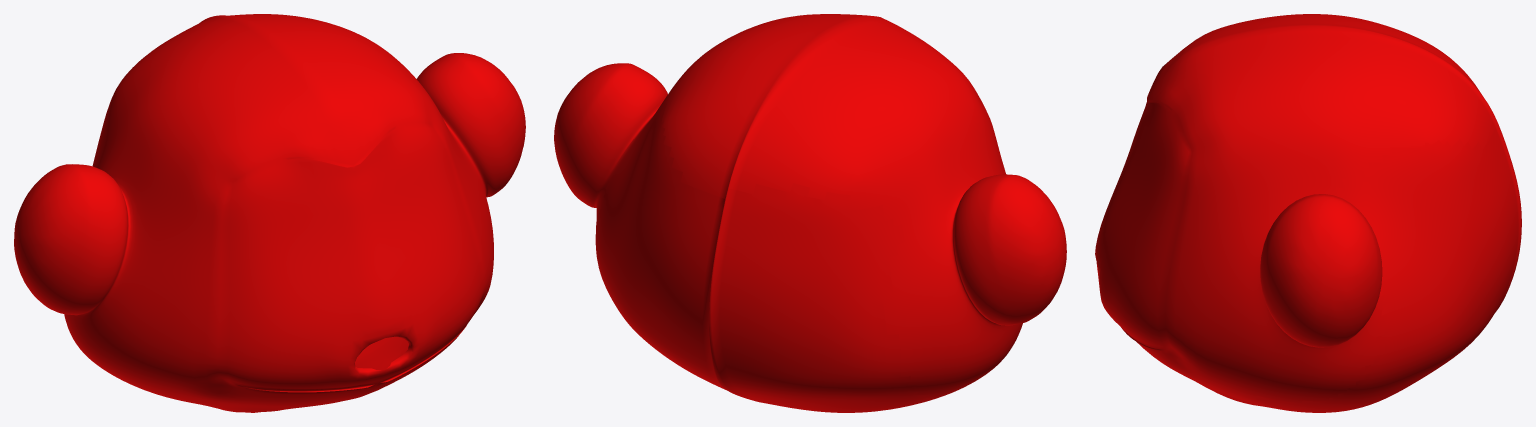
The model's file is zone1-singe-red.gltf.
3 renders of one model, left to right at view 1: azimuth 30°, elevation 25°; view 2: azimuth 150°, elevation 25°; view 3: azimuth 270°, elevation 25°, orthographic.
Parts seen in each view (by area): view 1: Tete; view 2: Tete; view 3: Tete.
Part boxes in pixels (box(x1,y1,x2,y2)): Tete: box(14, 14, 525, 412); Tete: box(554, 14, 1066, 412); Tete: box(1095, 14, 1521, 412).
Bounding box in the file's own units: 3.42 × 2.32 × 2.53.
